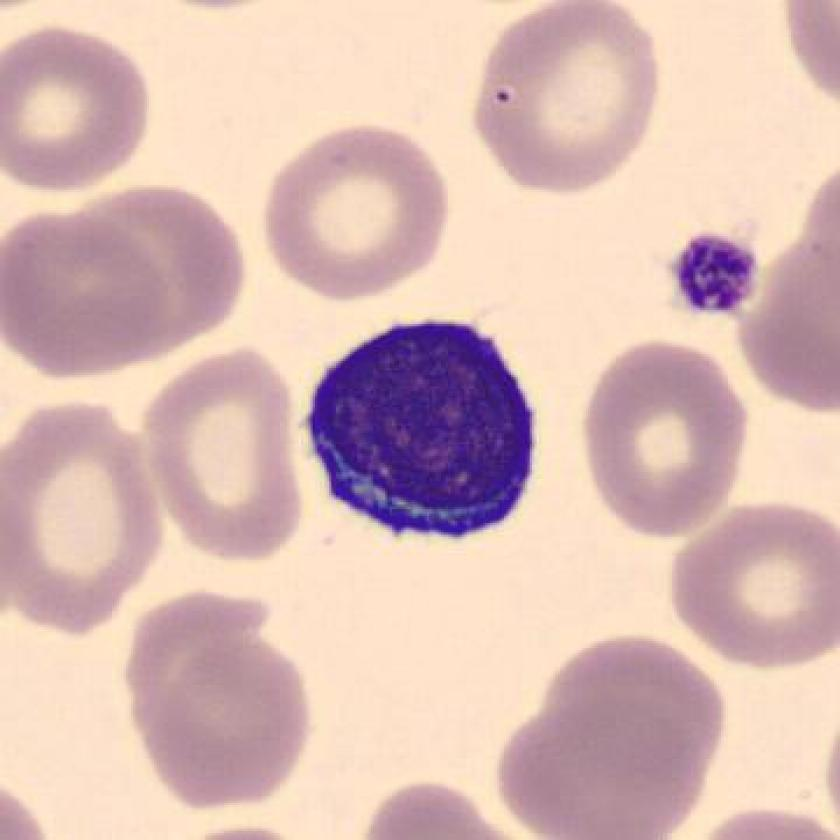lymphocyte: (291, 311, 557, 550)
